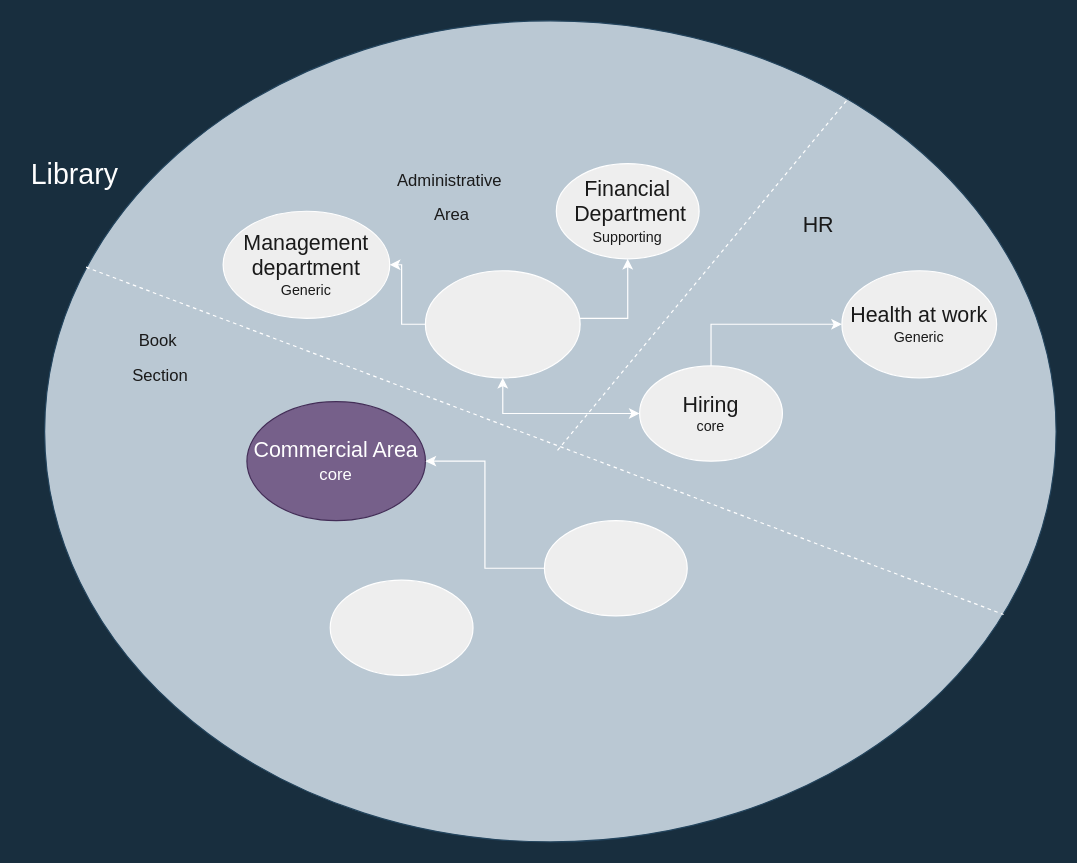
Some shapes in this 1077 by 863 pixel diagram are drawn without their labels. Each missing label, with the centre of its shape:
"Accounting Department core" goes at point (502, 324).
"Coffee Shop Generic" goes at point (401, 627).
"Sellers Supporting" goes at point (615, 567).
